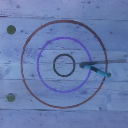Axe Tip: (87, 61, 97, 64)
